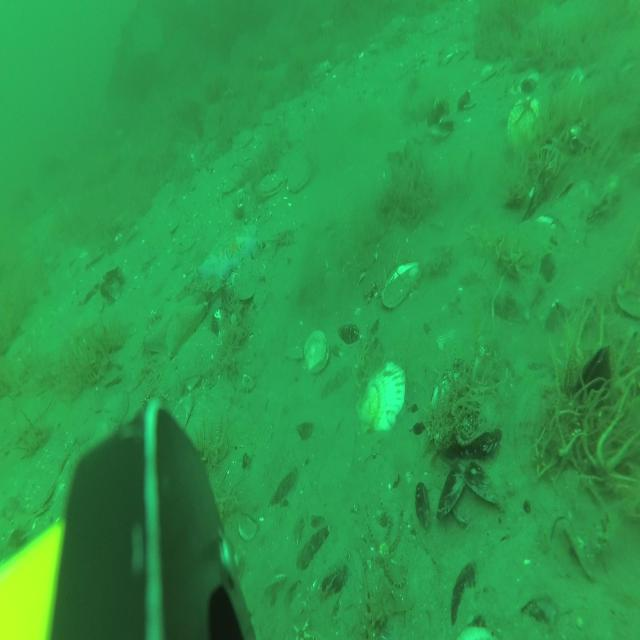scallop: (358, 364, 404, 434), (380, 260, 422, 310), (507, 100, 539, 152), (302, 330, 332, 373), (290, 150, 312, 194), (259, 168, 286, 195)
starfish: (145, 291, 210, 358), (196, 225, 260, 281)
